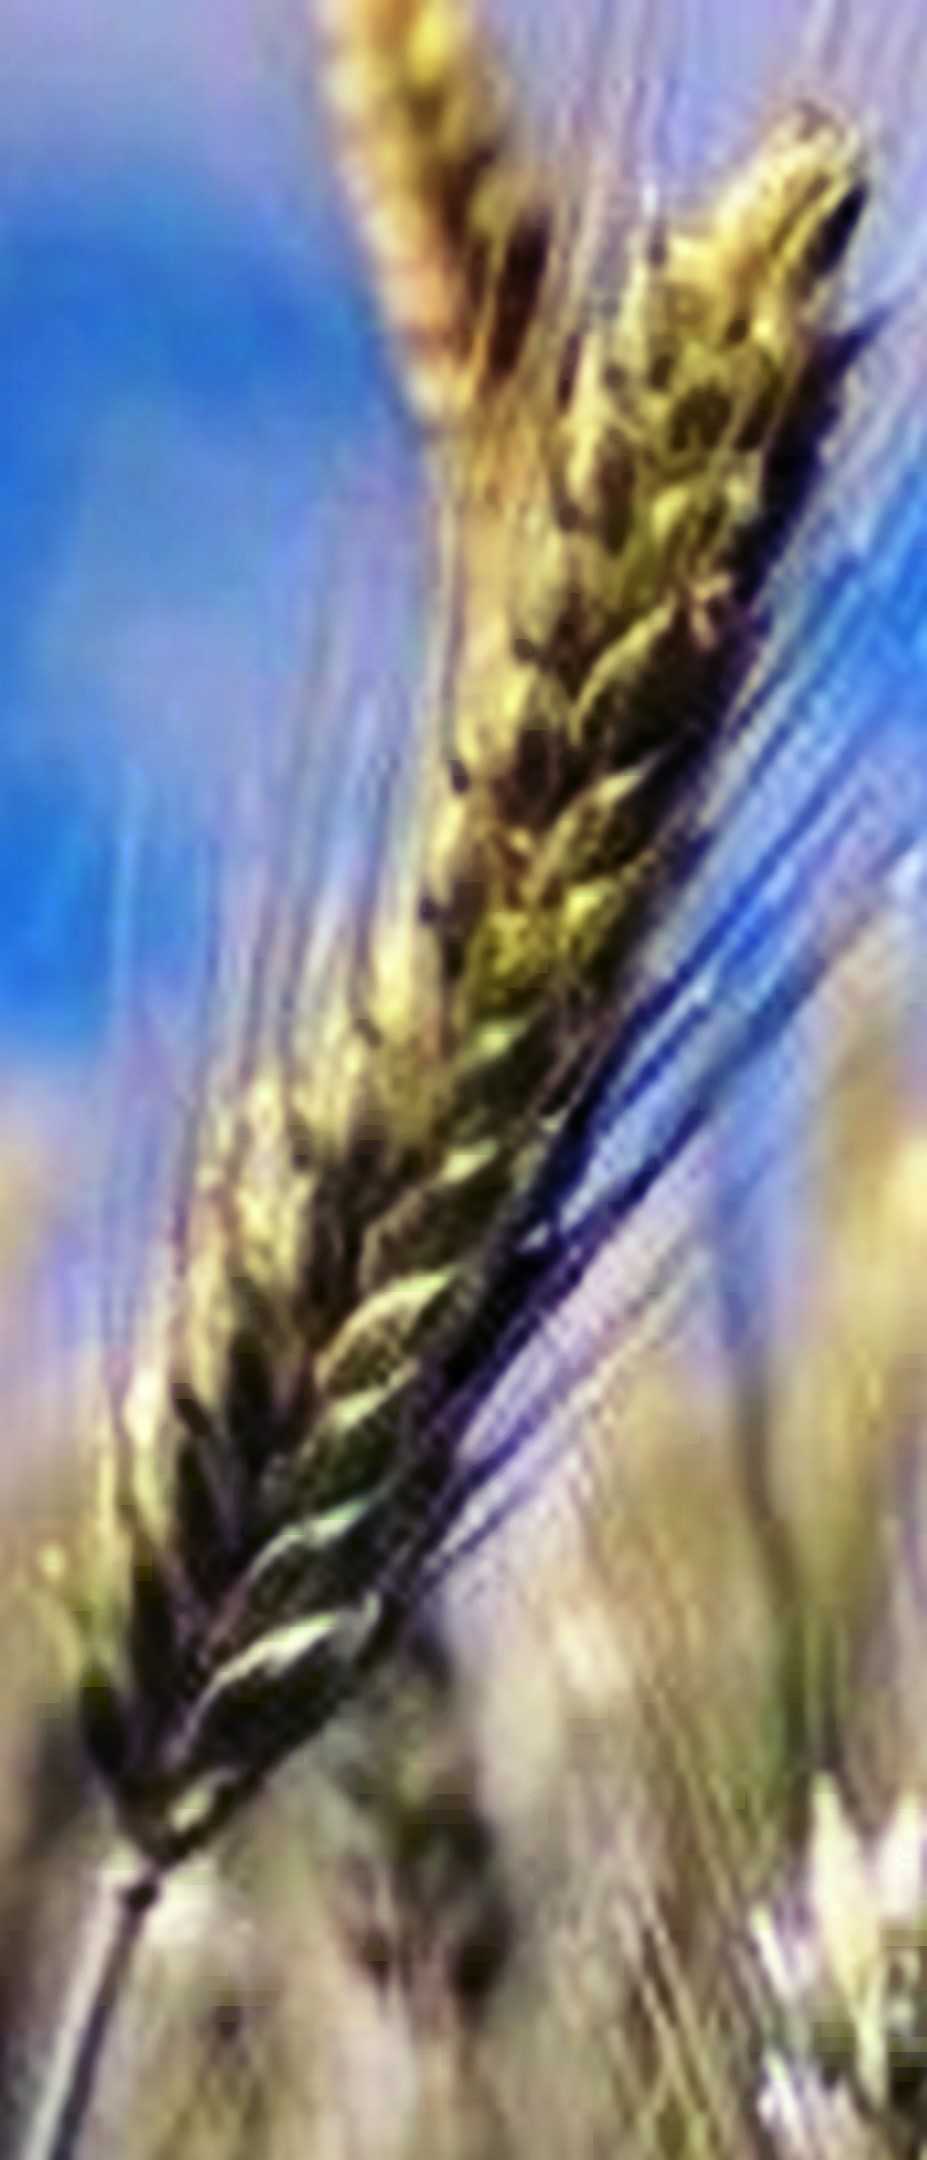Healthy Wheat: (36, 147, 927, 1901)
